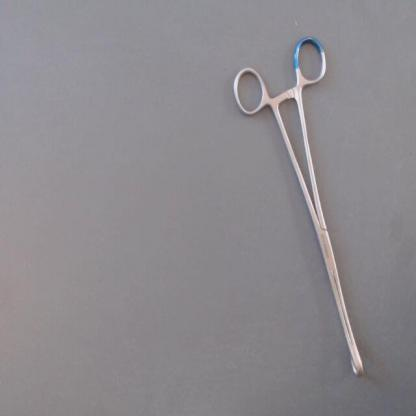Sponge Forceps: (224, 28, 372, 387)
